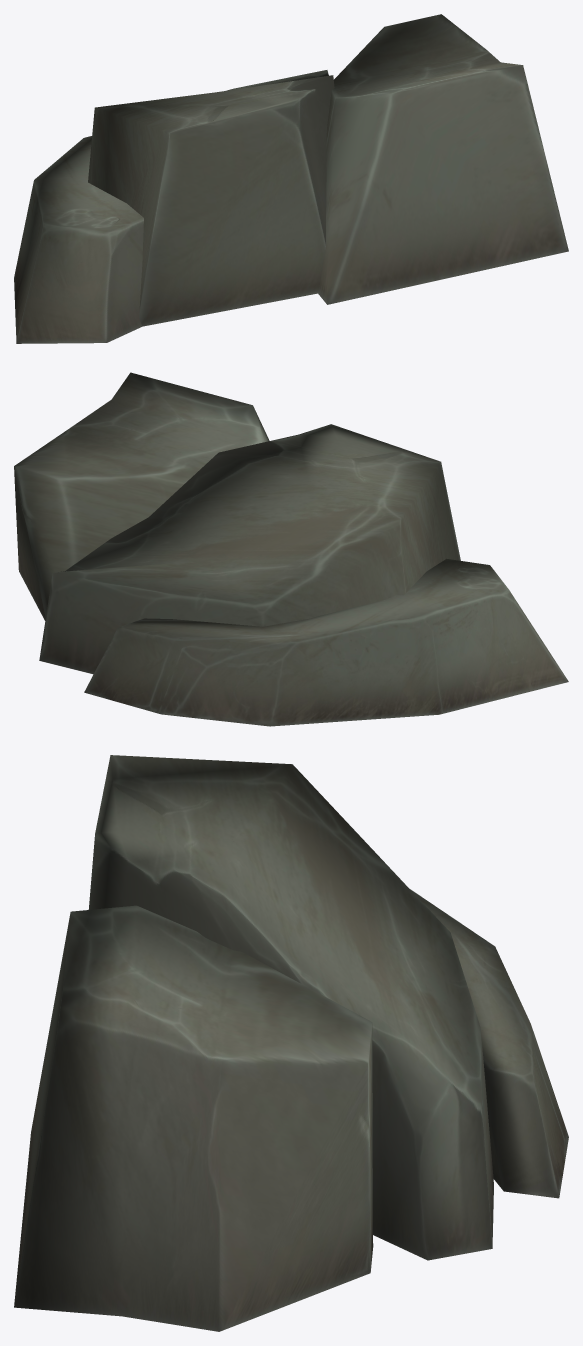
Rendered from piedra.obj.
The picture shows the model from 3 angles, top to bottom: view 1: azimuth 30°, elevation 25°; view 2: azimuth 150°, elevation 25°; view 3: azimuth 270°, elevation 25°; orthographic projection. The views are drawn at different scales.
Visible parts, largest first — view 1: defaultMaterial.002_standardSurface1; view 2: defaultMaterial.002_standardSurface1; view 3: defaultMaterial.002_standardSurface1.
Boxes of the visible parts, box(x1,y1,x2,y2) form: defaultMaterial.002_standardSurface1: box(14, 14, 568, 343); defaultMaterial.002_standardSurface1: box(14, 372, 568, 726); defaultMaterial.002_standardSurface1: box(14, 755, 568, 1331).
Bounding box in the file's own units: 5.64 × 1.89 × 3.29.
